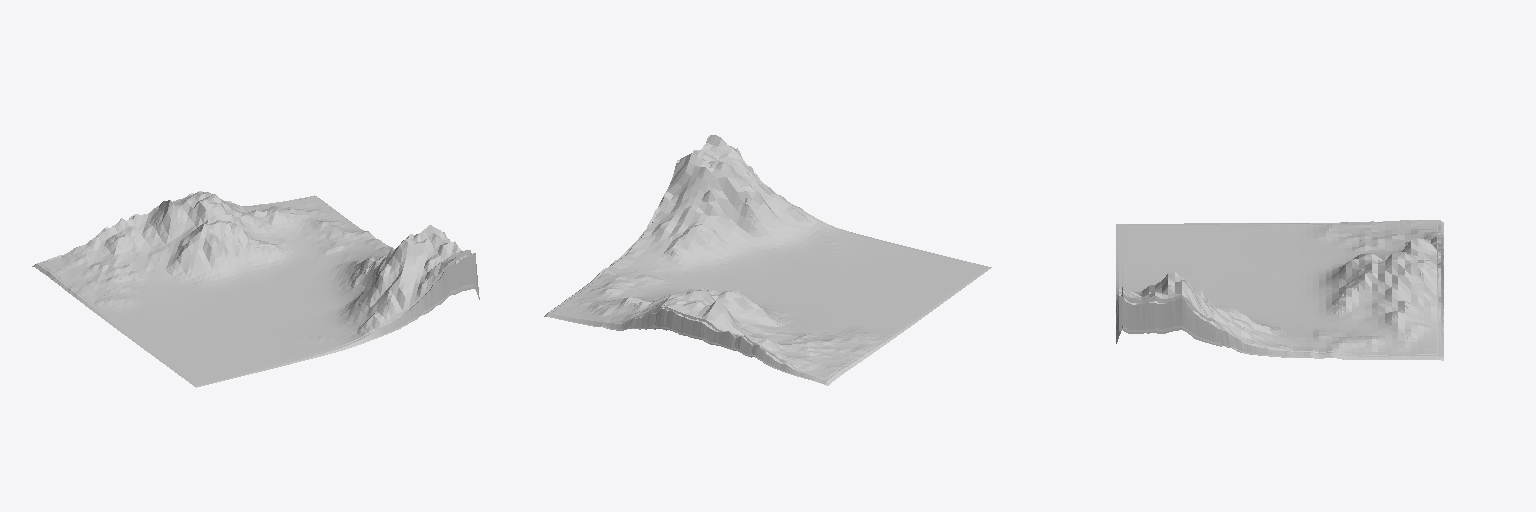
Rendered from Background.obj.
3 renders of one model, left to right at view 1: azimuth 30°, elevation 25°; view 2: azimuth 150°, elevation 25°; view 3: azimuth 270°, elevation 25°, orthographic.
Parts seen in each view (by area): view 1: Grid.001_Grid.003, Grid_Grid.002; view 2: Grid.001_Grid.003, Grid_Grid.002; view 3: Grid.001_Grid.003, Grid_Grid.002.
Boxes of the visible parts, x1,y1,x2,y2 form: Grid.001_Grid.003: [35, 192, 478, 385]; Grid_Grid.002: [32, 191, 479, 387]; Grid.001_Grid.003: [548, 135, 987, 384]; Grid_Grid.002: [544, 136, 991, 385]; Grid.001_Grid.003: [1116, 221, 1443, 360]; Grid_Grid.002: [1116, 220, 1443, 360].
Bounding box in the file's own units: 200 × 49.8 × 200.